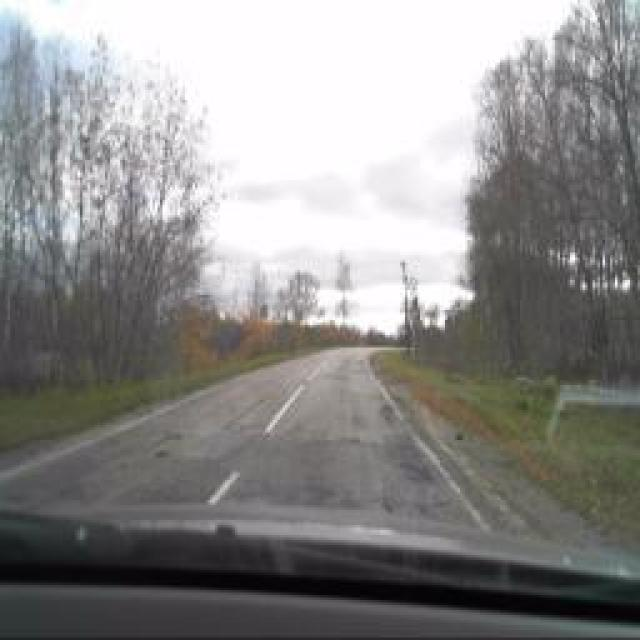sign: (410, 310, 420, 325)
